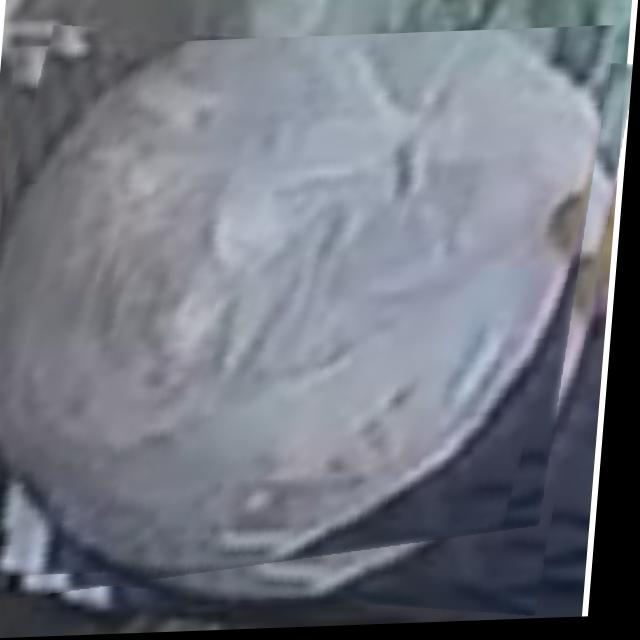other_trashbag: (0, 34, 605, 577)
